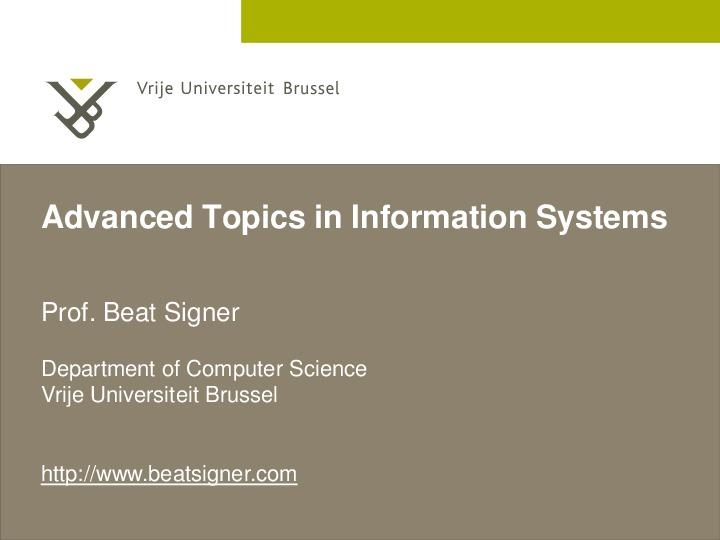title: (33, 187, 687, 249)
